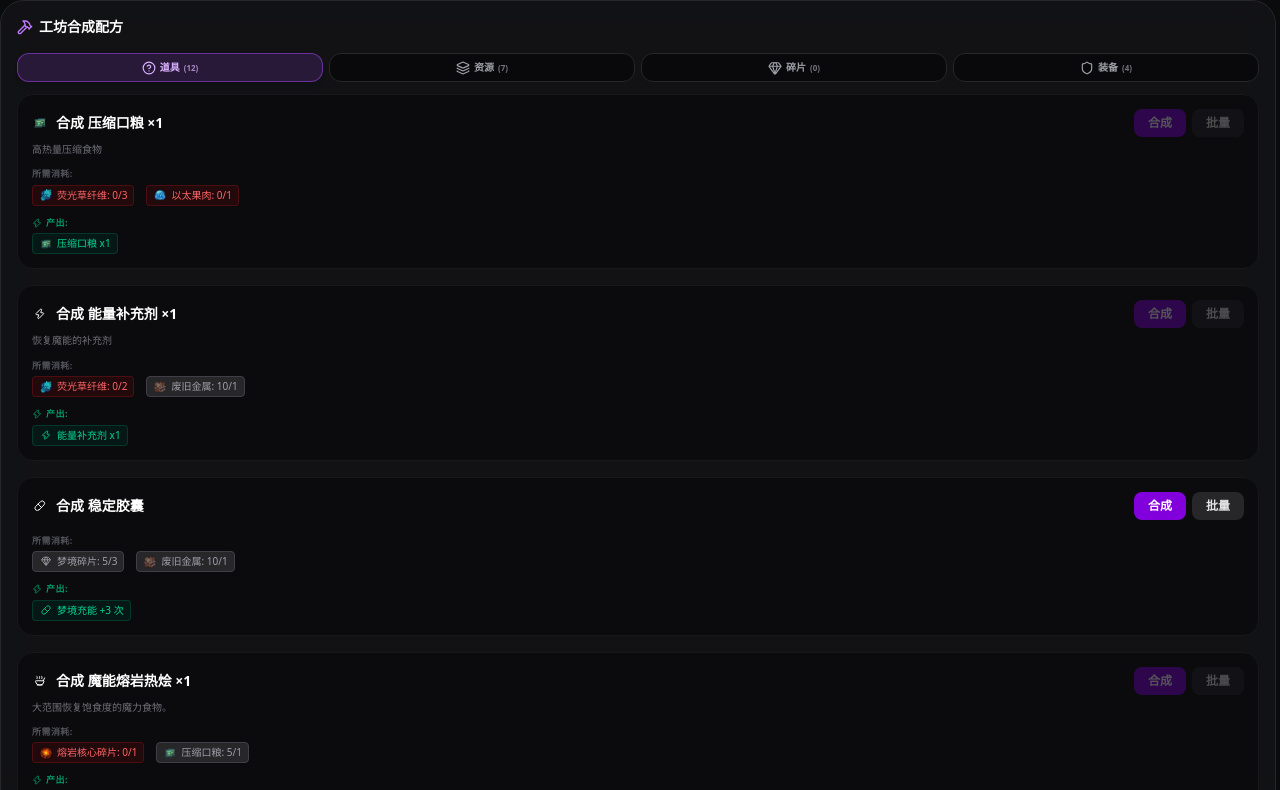
WorkshopTab Component › hides blueprint-gated recipes until the blueprint is obtained (ticket 03)
装备配方在「装备」分类下
Click the button "装备 (4)". click: x=1106, y=68
box: [953, 53, 1259, 82]
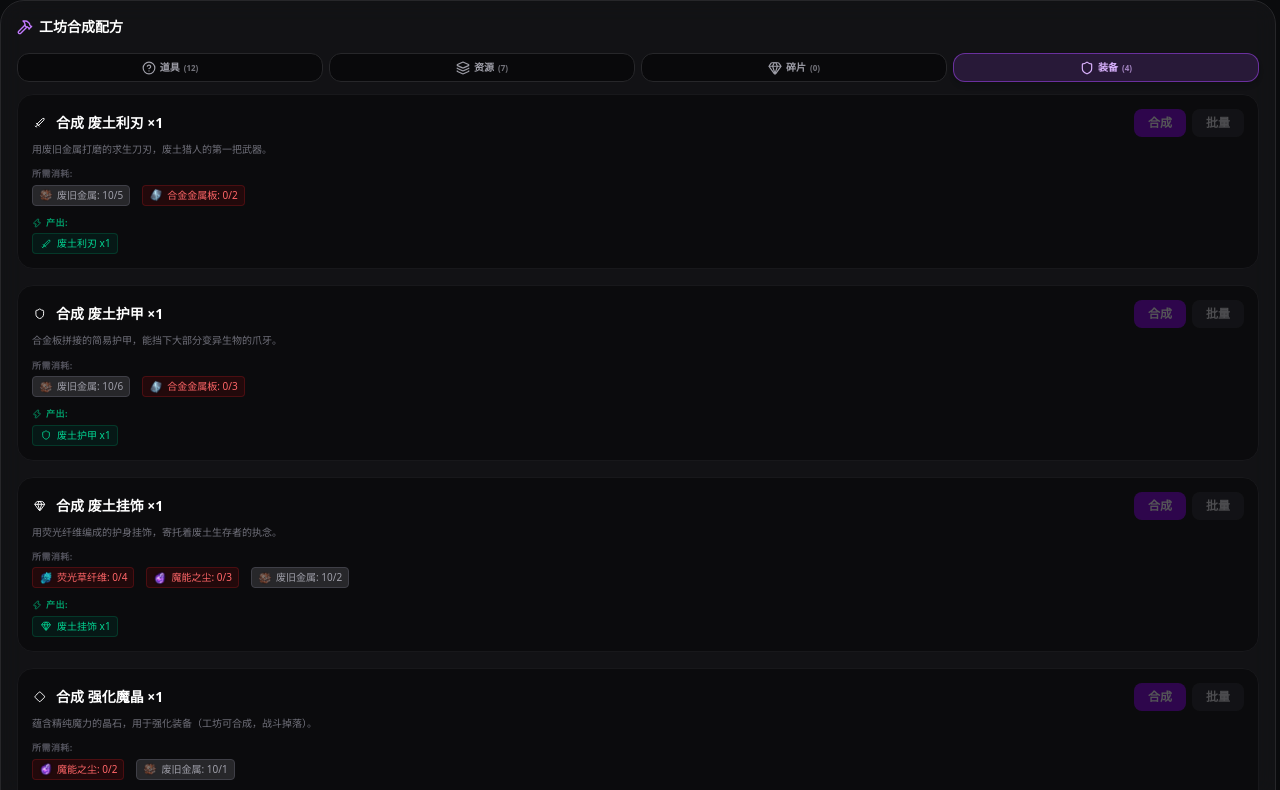
Expected: the heading "合成 废土利刃 ×1" is shown, [32, 113, 163, 133]
